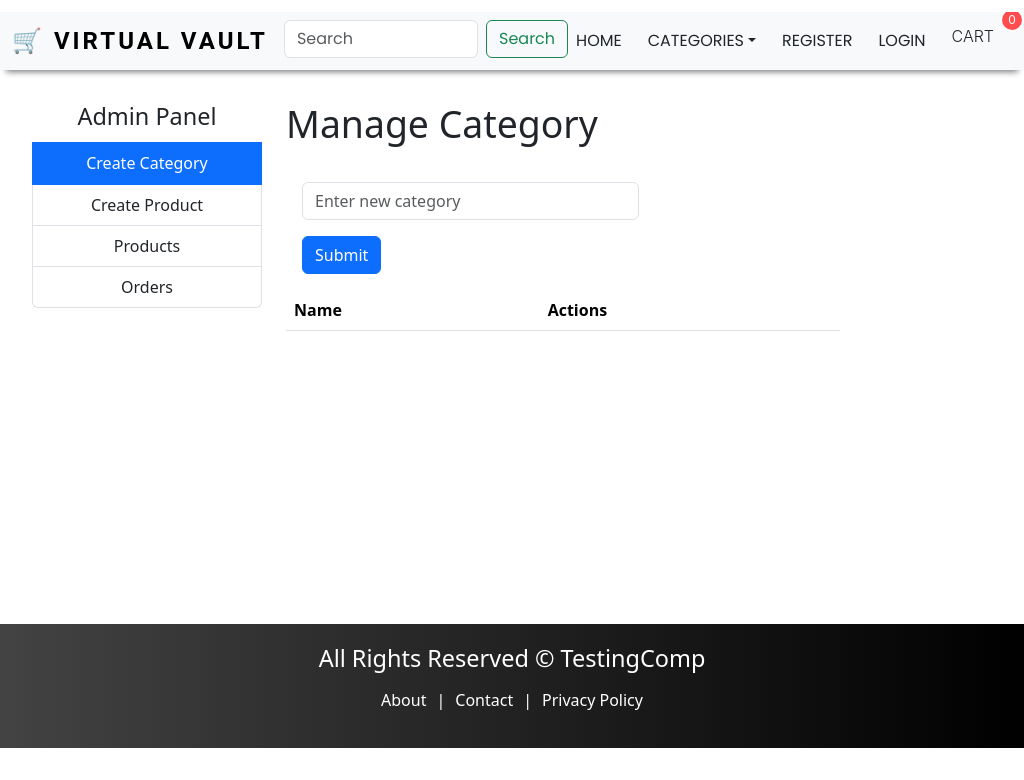
Scenario: Admin create category integration with other components › able to create new category
# simulate value to be submitted & clicking of submit button
Type "Plushie" into the field with placeholder "Enter new category" at (470, 200), box [302, 182, 639, 220]
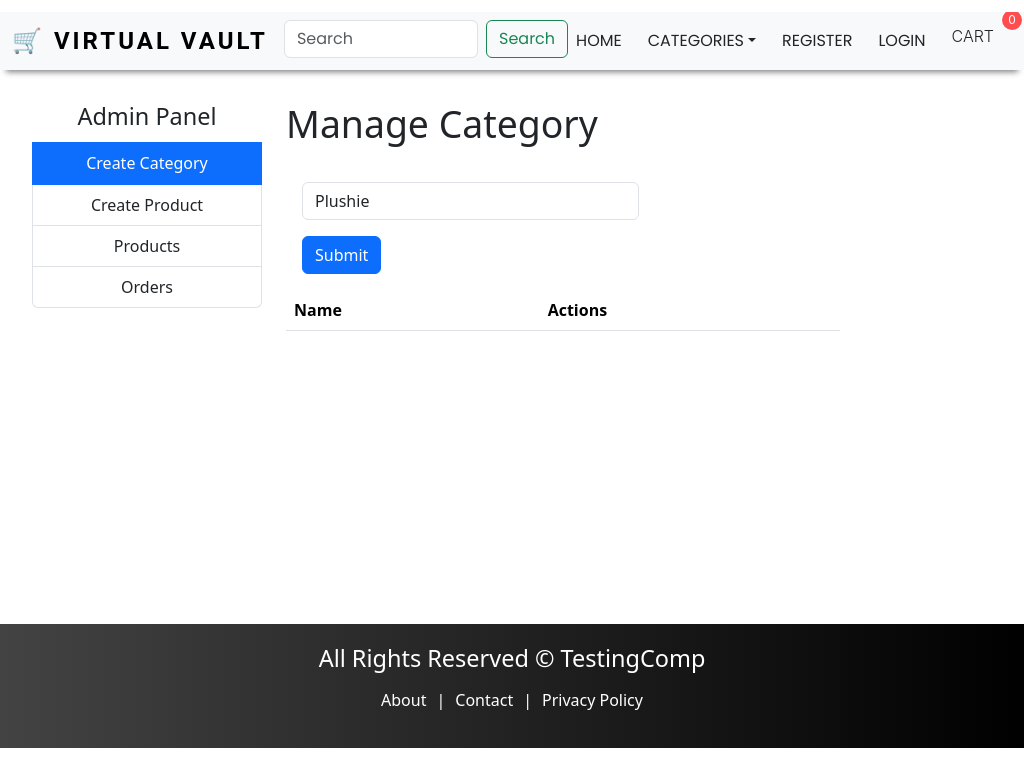
Click the button "Submit" at (342, 254), box [302, 236, 381, 274]
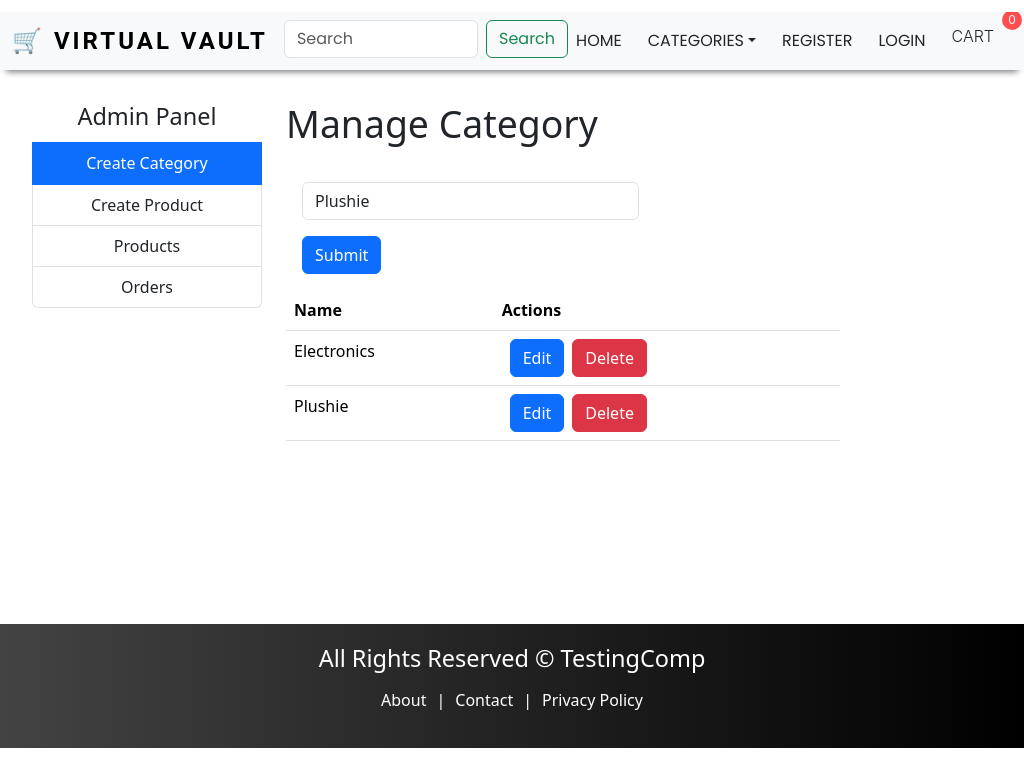
Result: the cell "Plushie" is shown at [286, 385, 494, 440]
